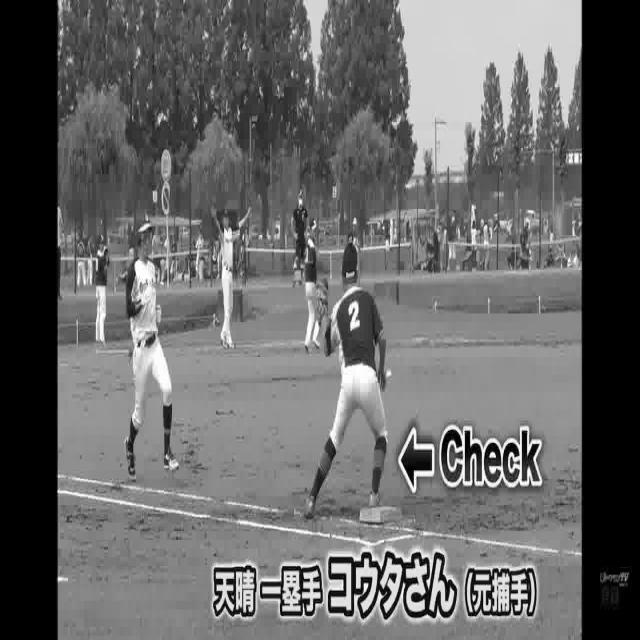base: (359, 506, 403, 524)
baseball_glove: (316, 275, 330, 326)
shoe: (124, 434, 140, 489), (303, 494, 319, 522), (161, 449, 179, 472), (368, 490, 387, 510)
